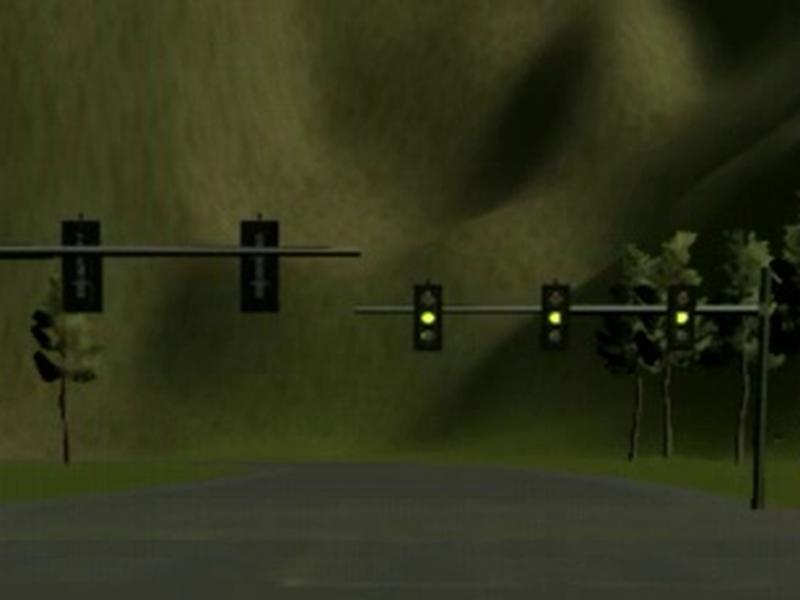Yellow: (414, 284, 442, 352), (542, 284, 569, 351), (669, 284, 695, 349)
